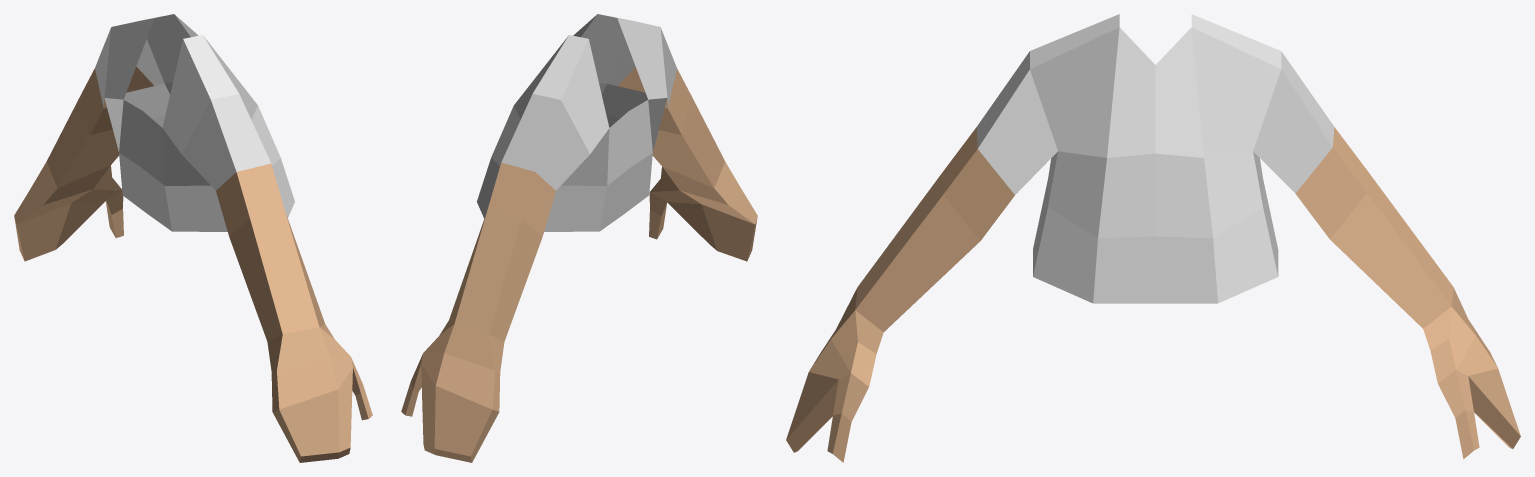
File: NIÑO.fbx
The picture shows the model from 3 angles, left to right: view 1: azimuth 30°, elevation 25°; view 2: azimuth 150°, elevation 25°; view 3: azimuth 270°, elevation 25°; orthographic projection. The views are drawn at different scales.
Visible parts, largest first — view 1: cuerpo.001; view 2: cuerpo.001; view 3: cuerpo.001.
Part boxes in pixels (x1,y1,x2,y2): cuerpo.001: (14, 14, 372, 462); cuerpo.001: (401, 14, 757, 462); cuerpo.001: (786, 14, 1520, 462).
Bounding box in the file's own units: 78.2 × 194 × 307.
